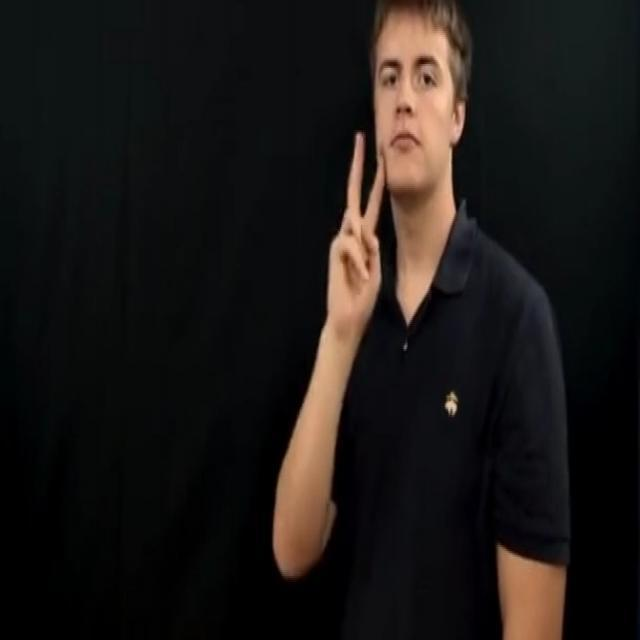vegetables: (328, 130, 388, 332)
